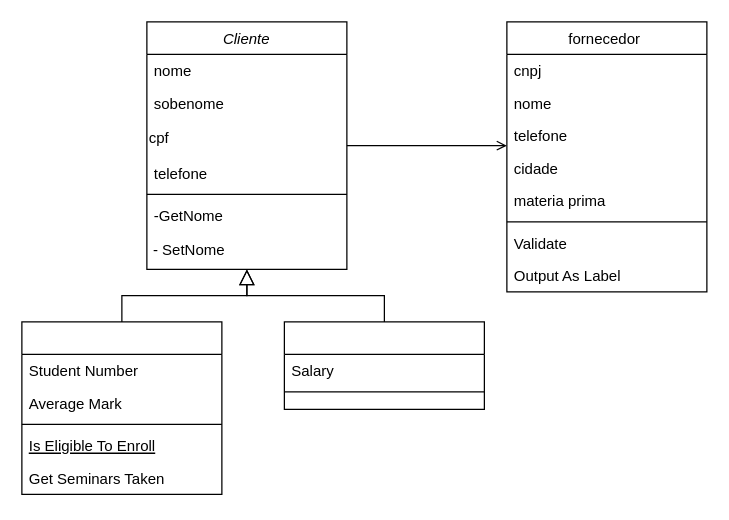
The diagram is 729 pixels wide and 520 high, and some of its shapes have lost their labels. Here are the shapes that lost their labels. From the top down, the box of each, then its label:
(283, 321, 484, 409): Professor
(21, 321, 222, 494): materia pirna
